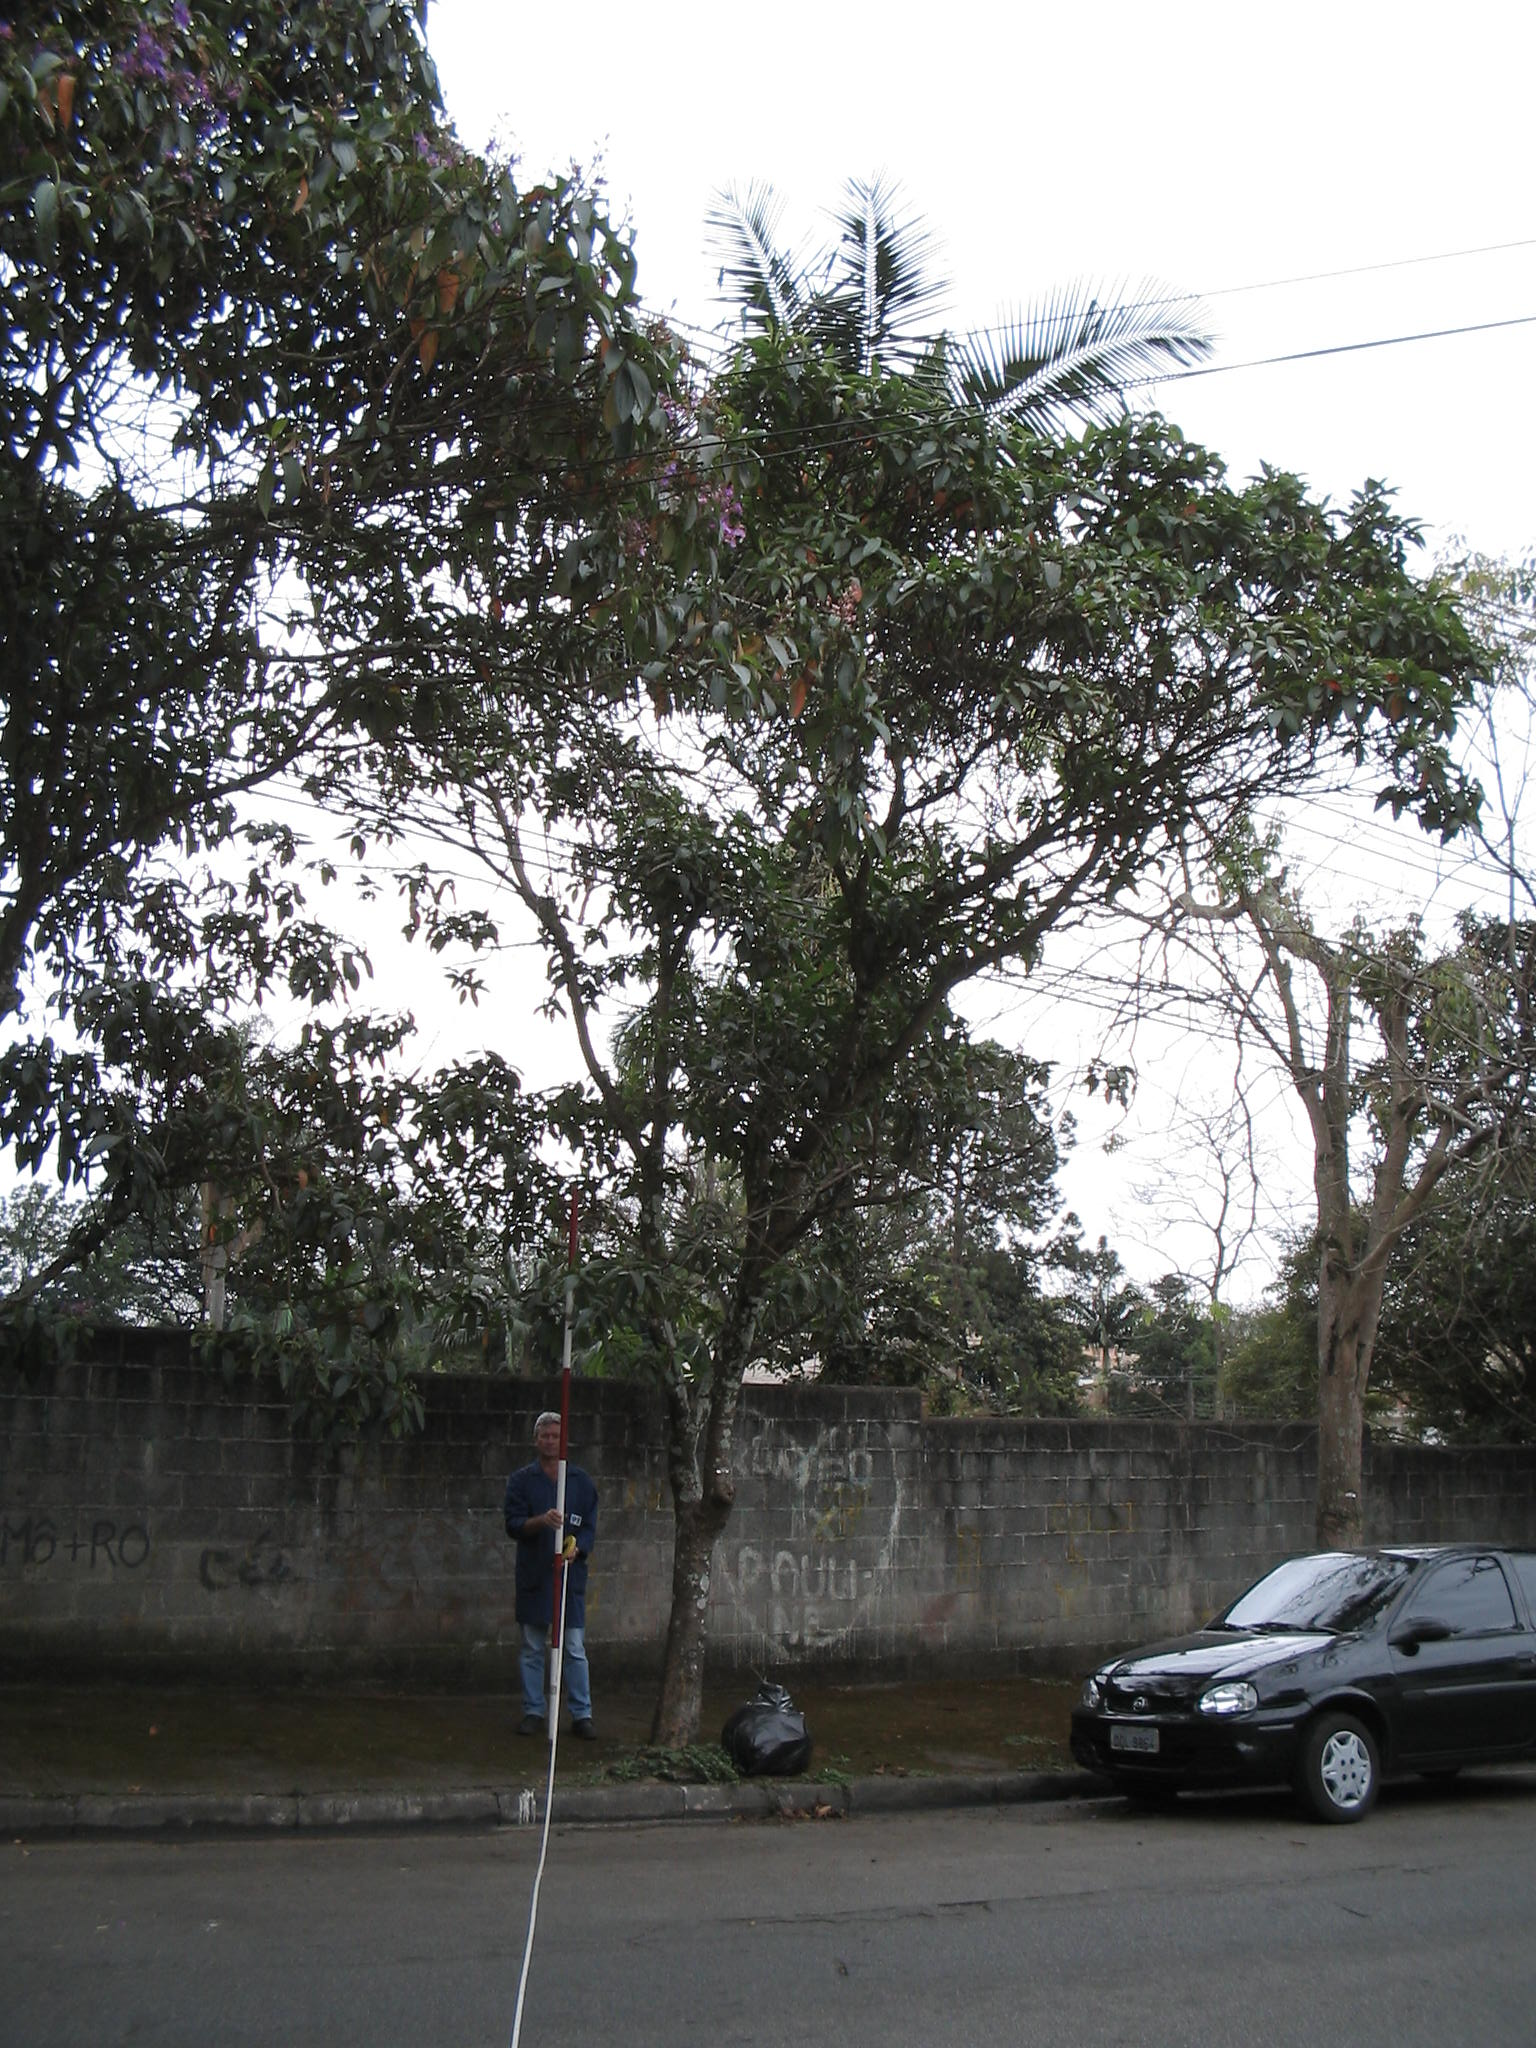crown: (382, 334, 1509, 905)
stem: (623, 1505, 745, 1746)
stick: (529, 1184, 599, 1755)
tree: (379, 334, 1509, 1753)
